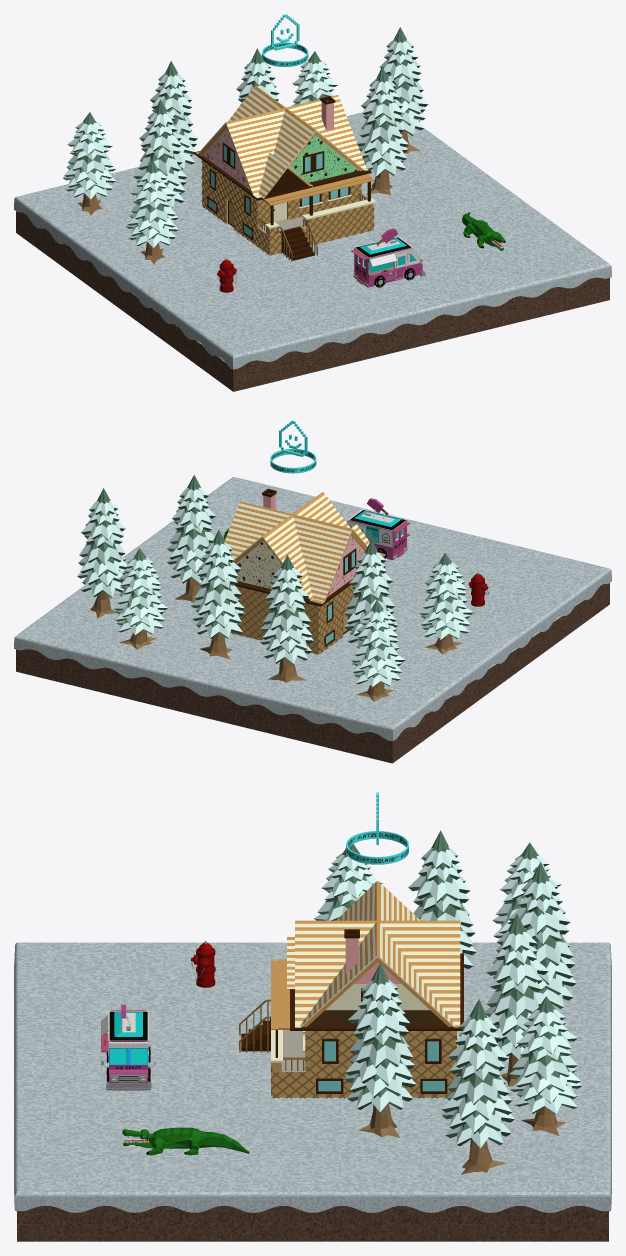
3 views of the same model, one above another, from view 1: azimuth 30°, elevation 25°; view 2: azimuth 150°, elevation 25°; view 3: azimuth 270°, elevation 25° (orthographic). The views are drawn at different scales.
Visible parts, largest first — view 1: Cube.003, Cube.1102, VEHICLES_ICE_CREAM_TRUCK, TYPE_PREMIUM, ANIMAL_COCODRILO; view 2: Cube.003, Cube.1102, VEHICLES_ICE_CREAM_TRUCK, TYPE_PREMIUM, OBJRANDOM_FIRE_HYDRANT; view 3: Cube.003, Cube.1102, VEHICLES_ICE_CREAM_TRUCK, ANIMAL_COCODRILO, TYPE_PREMIUM, OBJRANDOM_FIRE_HYDRANT.
Boxes of the visible parts, x1,y1,x2,y2 form: Cube.003: (14,27,611,391); Cube.1102: (194,85,376,261); VEHICLES_ICE_CREAM_TRUCK: (350,228,425,287); TYPE_PREMIUM: (262,14,308,66); ANIMAL_COCODRILO: (462,212,505,250); Cube.003: (14,475,611,763); Cube.1102: (225,489,388,654); VEHICLES_ICE_CREAM_TRUCK: (347,498,410,559); TYPE_PREMIUM: (270,420,316,473); OBJRANDOM_FIRE_HYDRANT: (468,572,488,606); Cube.003: (14,830,611,1241); Cube.1102: (239,881,463,1098); VEHICLES_ICE_CREAM_TRUCK: (101,1004,156,1090); ANIMAL_COCODRILO: (122,1127,249,1155); TYPE_PREMIUM: (346,792,408,864); OBJRANDOM_FIRE_HYDRANT: (191,941,215,987).
Bounding box in the file's own units: 4040 × 2483 × 4040.
Materials: 40 (5 with a texture image).
